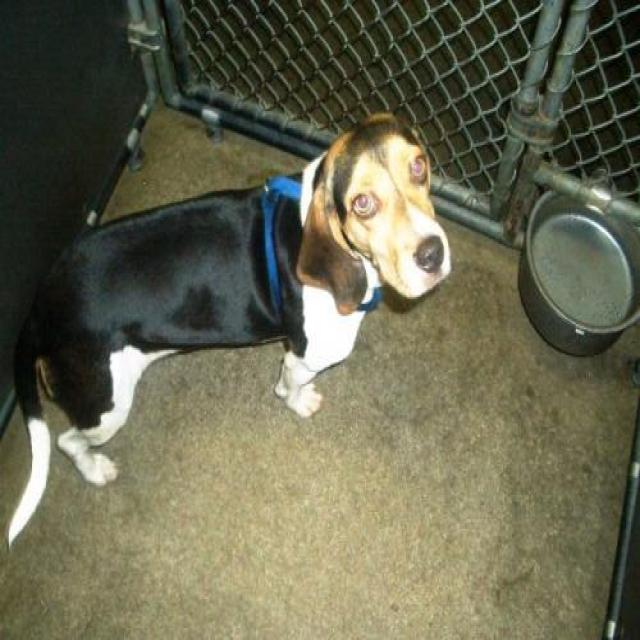dogs: (11, 113, 453, 551)
